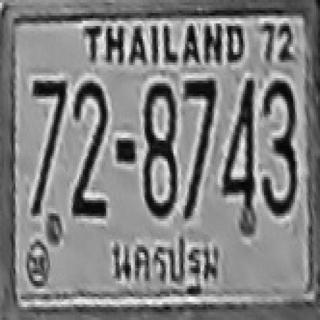N02: (71, 79, 108, 215), (72, 78, 107, 203)
N03: (260, 78, 297, 213)
N04: (221, 77, 255, 215)
N07: (31, 78, 68, 213), (182, 77, 215, 215), (31, 78, 68, 164), (182, 78, 215, 172), (182, 78, 215, 161)
N08: (143, 81, 175, 216)
P28: (108, 231, 224, 296)
